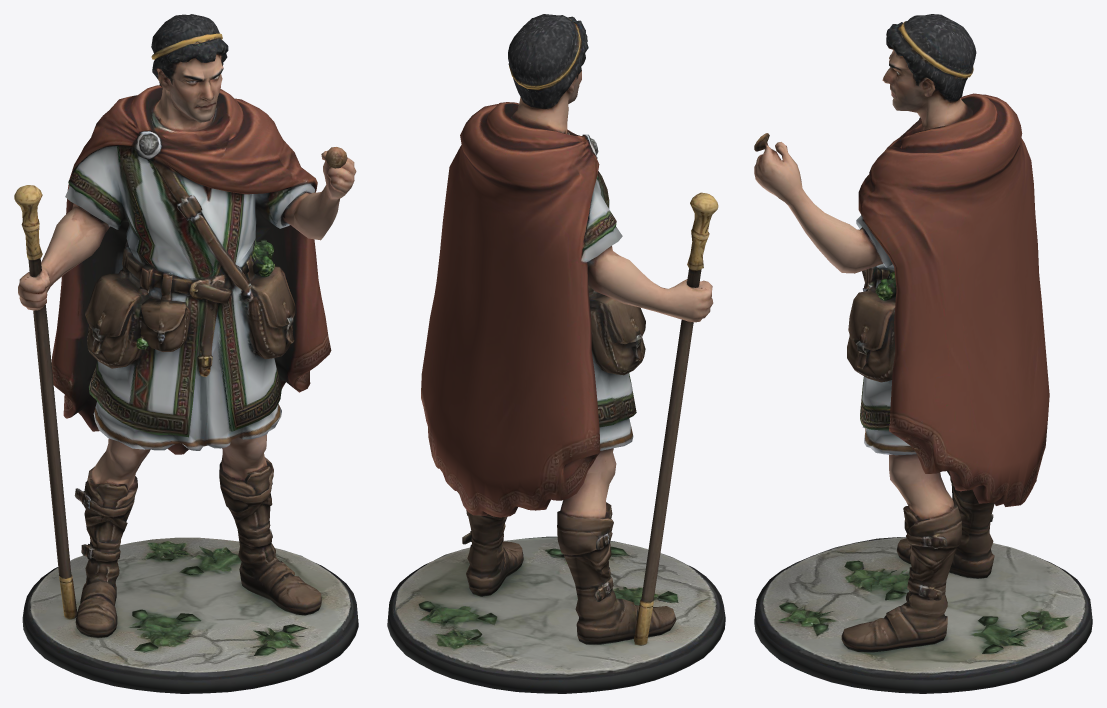
The model's file is venturer_def_male.glb.
3 views of the same model, side by side, from view 1: azimuth 30°, elevation 25°; view 2: azimuth 150°, elevation 25°; view 3: azimuth 270°, elevation 25° (orthographic).
Visible parts, largest first — view 1: tripo_node_6a1a2b8d-8ced-4d6a-9410-1974f79f1616; view 2: tripo_node_6a1a2b8d-8ced-4d6a-9410-1974f79f1616; view 3: tripo_node_6a1a2b8d-8ced-4d6a-9410-1974f79f1616.
Boxes of the visible parts, x1=… form: tripo_node_6a1a2b8d-8ced-4d6a-9410-1974f79f1616: x1=14, y1=14, x2=358, y2=693; tripo_node_6a1a2b8d-8ced-4d6a-9410-1974f79f1616: x1=387, y1=14, x2=725, y2=693; tripo_node_6a1a2b8d-8ced-4d6a-9410-1974f79f1616: x1=754, y1=14, x2=1092, y2=693.
Bounding box in the file's own units: 0.5449 × 0.998 × 0.5059.
Materials: 1 (1 with a texture image).
